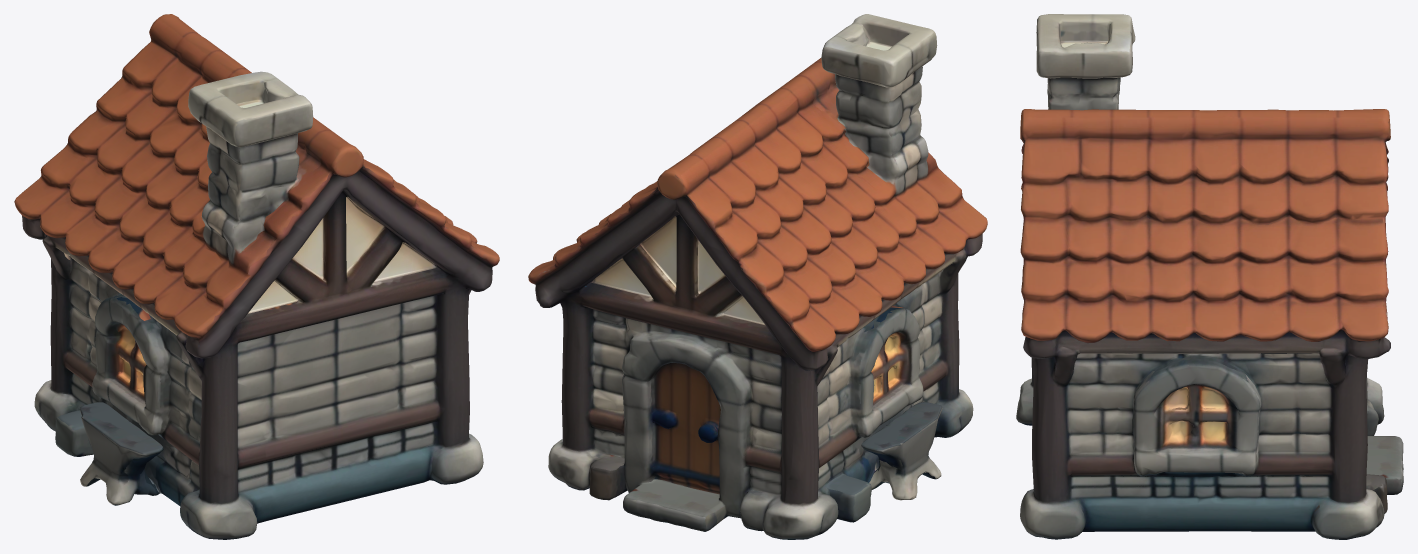
The model's file is casa_gon.glb.
3 renders of one model, left to right at view 1: azimuth 30°, elevation 25°; view 2: azimuth 150°, elevation 25°; view 3: azimuth 270°, elevation 25°, orthographic. The views are drawn at different scales.
Visible parts, largest first — view 1: CasaGon; view 2: CasaGon; view 3: CasaGon.
Part boxes in pixels (x1,y1,x2,y2): CasaGon: (14, 14, 499, 539); CasaGon: (528, 14, 987, 539); CasaGon: (1016, 14, 1403, 539).
Size of the model in its own units: 1.63 by 1.97 by 1.67.
1 material, 1 textured.
